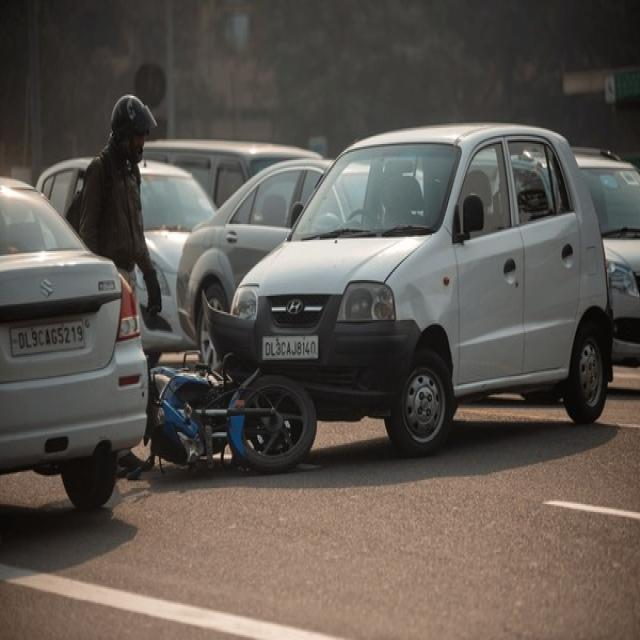accident: (150, 366, 316, 473)
car: (231, 124, 614, 456)
